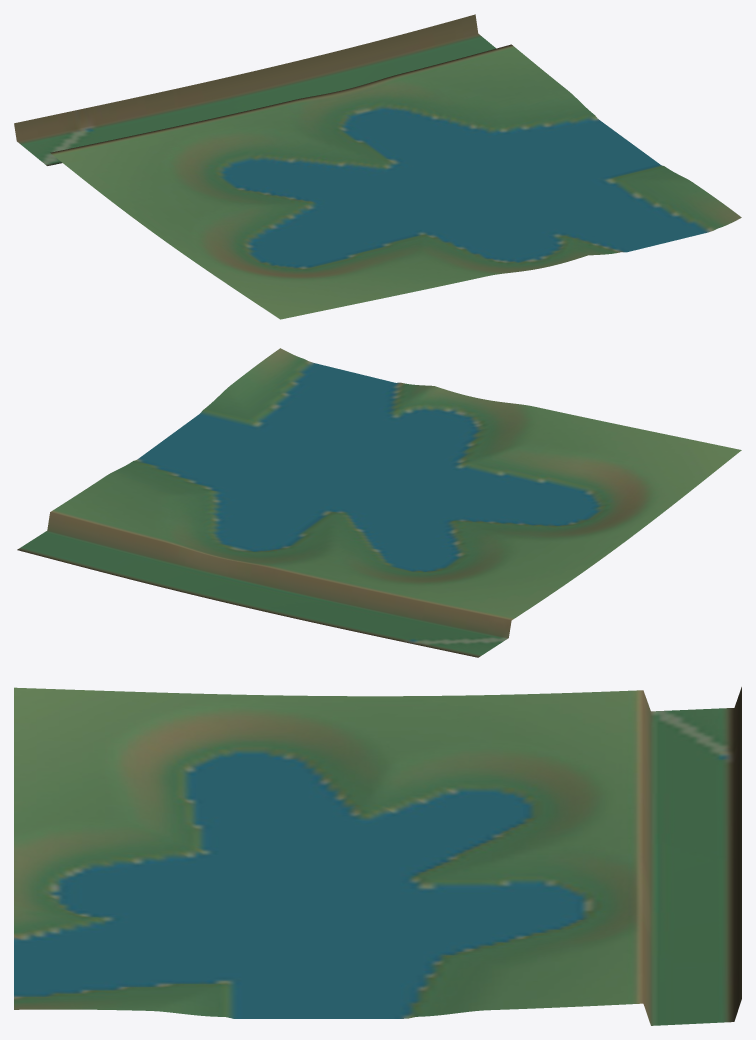
File: terrain_T_W01_S02.glb
3 views of the same model, one above another, from view 1: azimuth 30°, elevation 25°; view 2: azimuth 150°, elevation 25°; view 3: azimuth 270°, elevation 25° (orthographic). The views are drawn at different scales.
Visible parts, largest first — view 1: Terrain_T_W01_S02; view 2: Terrain_T_W01_S02; view 3: Terrain_T_W01_S02.
Part boxes in pixels (<box>): Terrain_T_W01_S02: <box>14,14,741,319</box>; Terrain_T_W01_S02: <box>17,348,741,657</box>; Terrain_T_W01_S02: <box>14,687,741,1025</box>.
Bounding box in the file's own units: 2000 × 105 × 2000.
1 material, 1 textured.
